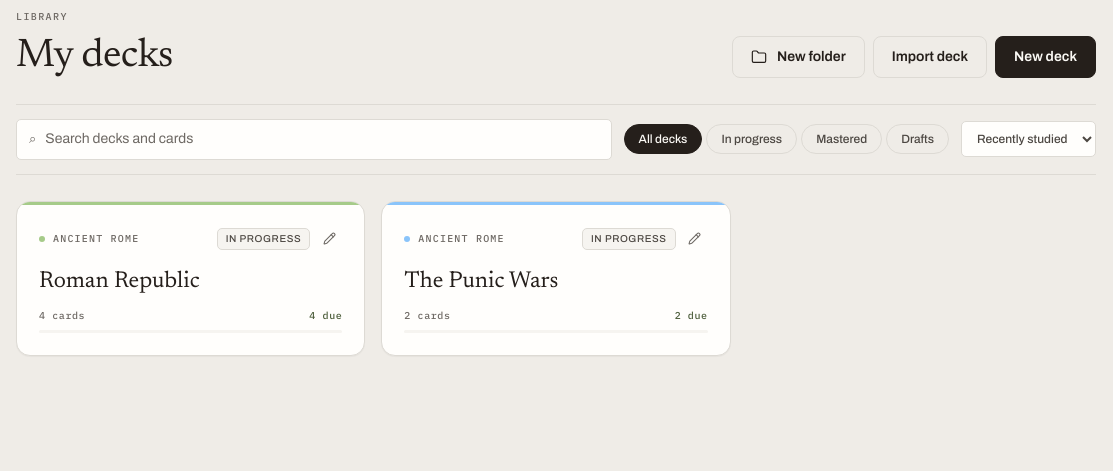
Test: when nothing matches › puts every deck back
The width and height of the screenshot is (1113, 471).
Click the button "Mastered". click: (842, 140)
box: [801,124,882,154]
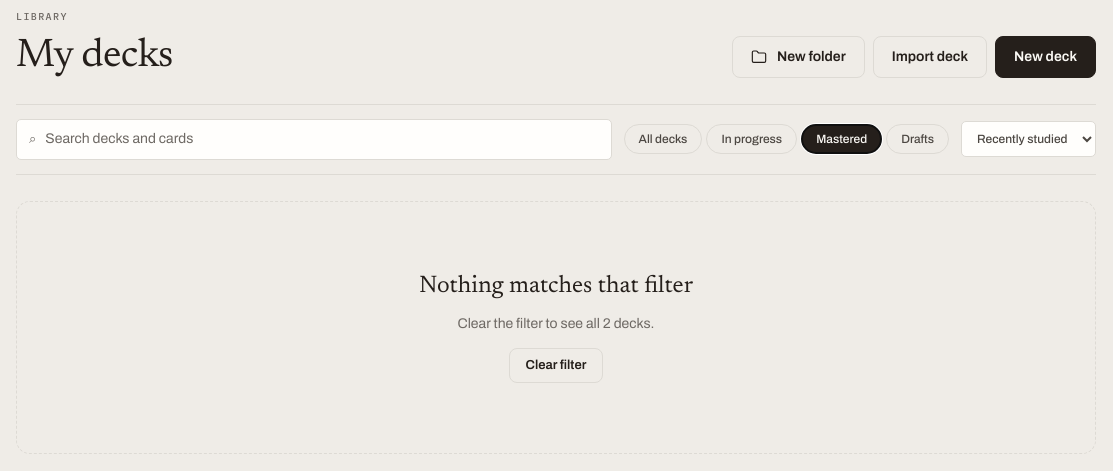
Click the button "Clear filter". click: (556, 366)
box: [509,348,603,383]
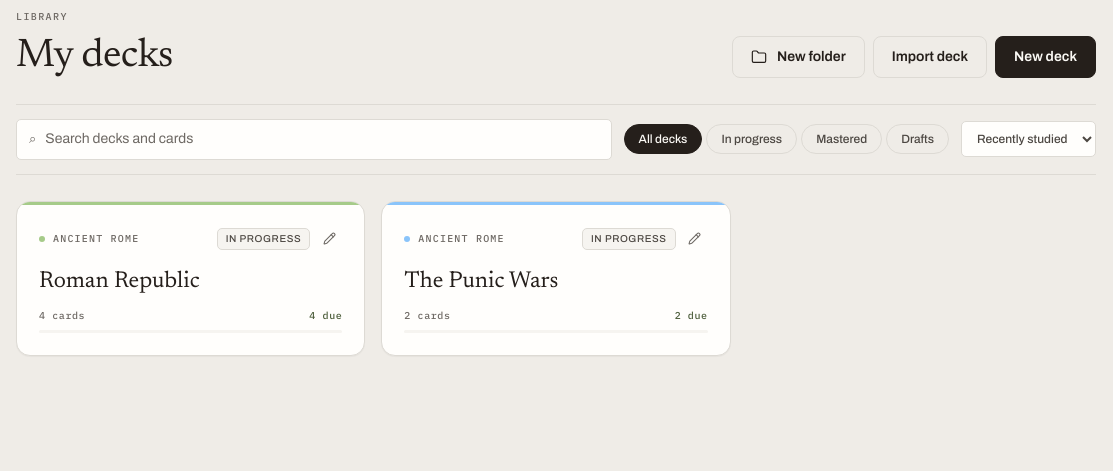
Result: the heading "Roman Republic" is shown at [39,270,200,292]
Result: the heading "The Punic Wars" is shown at [404,270,558,292]
